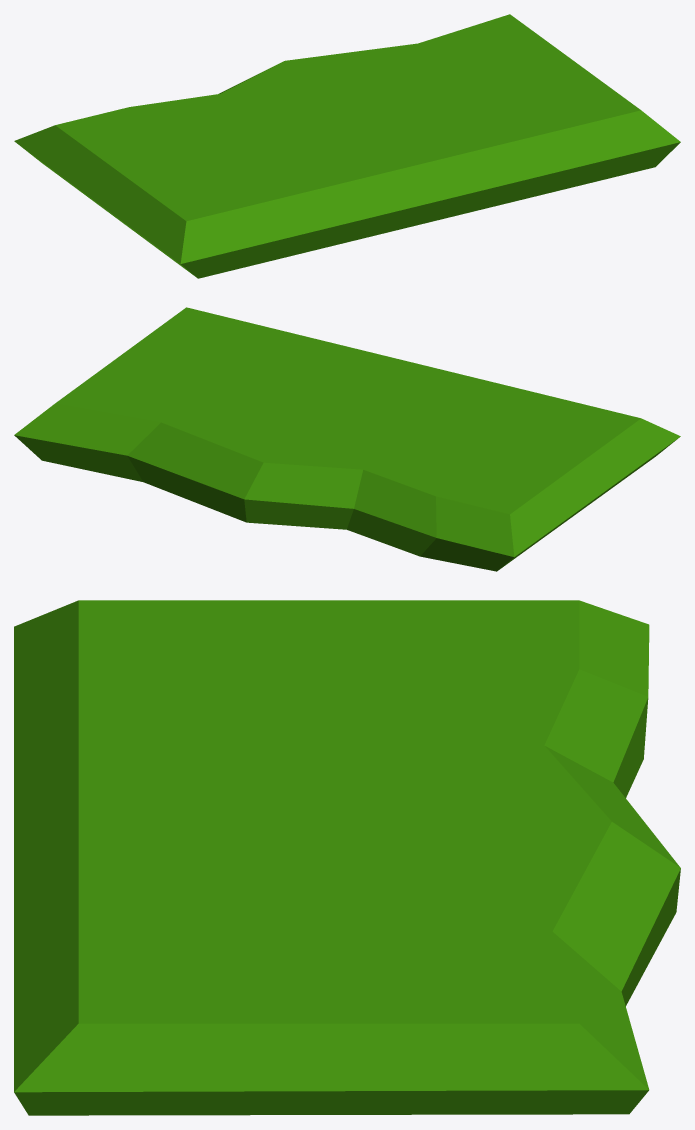
The model's file is Overhang.fbx.
3 views of the same model, one above another, from view 1: azimuth 30°, elevation 25°; view 2: azimuth 150°, elevation 25°; view 3: azimuth 270°, elevation 25° (orthographic). The views are drawn at different scales.
Visible parts, largest first — view 1: Overhang; view 2: Overhang; view 3: Overhang.
Part boxes in pixels (bbox=[...]): Overhang: bbox=[14, 14, 680, 278]; Overhang: bbox=[14, 307, 680, 571]; Overhang: bbox=[14, 600, 680, 1115].
Size of the model in its own units: 1.1 by 0.1 by 0.666.
